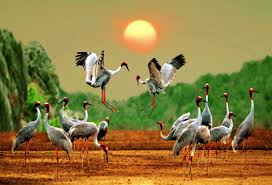seu_dau_do: (76, 50, 130, 112), (135, 55, 186, 114), (176, 95, 207, 178), (10, 100, 44, 169), (41, 102, 71, 176), (234, 88, 263, 164), (69, 122, 108, 170), (209, 112, 236, 168), (155, 114, 190, 152), (56, 97, 82, 135)
